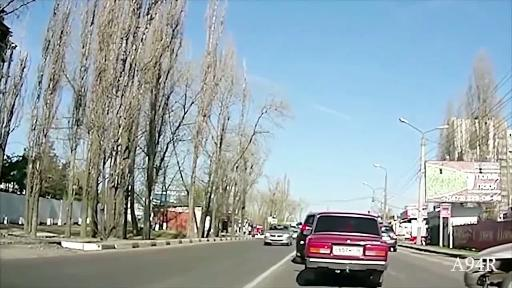CAR: (300, 208, 397, 281), (260, 220, 292, 248)
